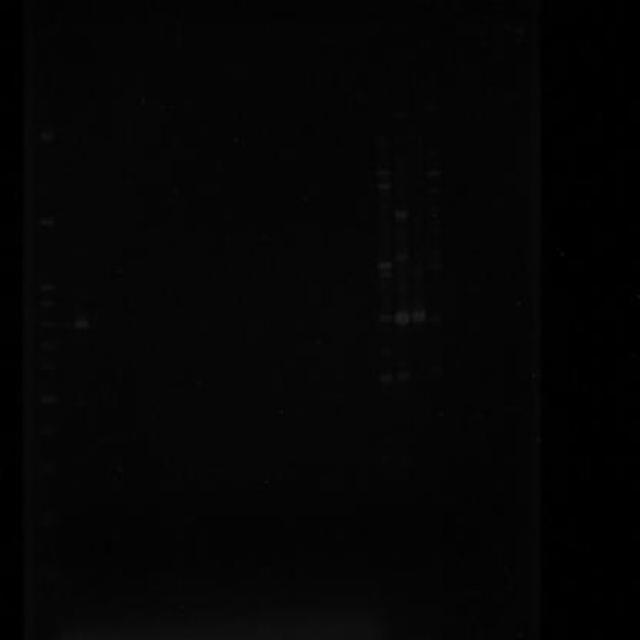B: (396, 310, 410, 326), (378, 312, 394, 326), (72, 318, 90, 330), (378, 372, 393, 386), (378, 260, 393, 272), (394, 210, 408, 222), (412, 310, 426, 322), (426, 314, 442, 324), (394, 372, 408, 382), (376, 169, 392, 177), (427, 188, 441, 197), (378, 270, 393, 278), (426, 169, 440, 177), (377, 182, 391, 190), (394, 255, 409, 262)
M: (32, 121, 62, 544)
P: (36, 130, 59, 144), (36, 393, 58, 407), (37, 318, 57, 331), (38, 216, 56, 229), (36, 282, 56, 293), (36, 297, 56, 308), (37, 340, 57, 351)
